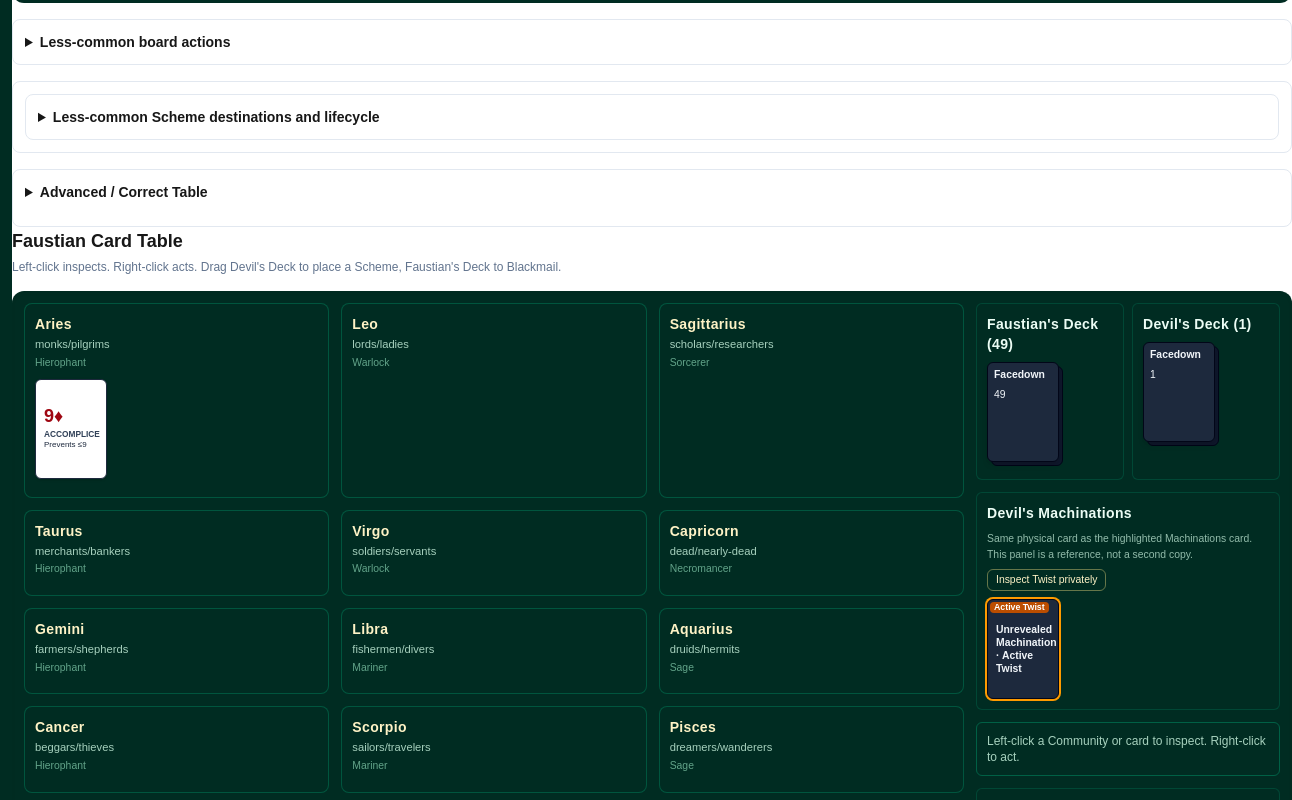
Test: contextual Community actions › surfaces Place Scheme prevention when the new Scheme is at or below the Accomplice
(page scrolled)
Right-click the element showing "Aries monks/pilgrims Hierophant 9♦ Accomplice Prevents ≤9" at (177, 400), box top-left (24, 303), bottom-right (329, 498)
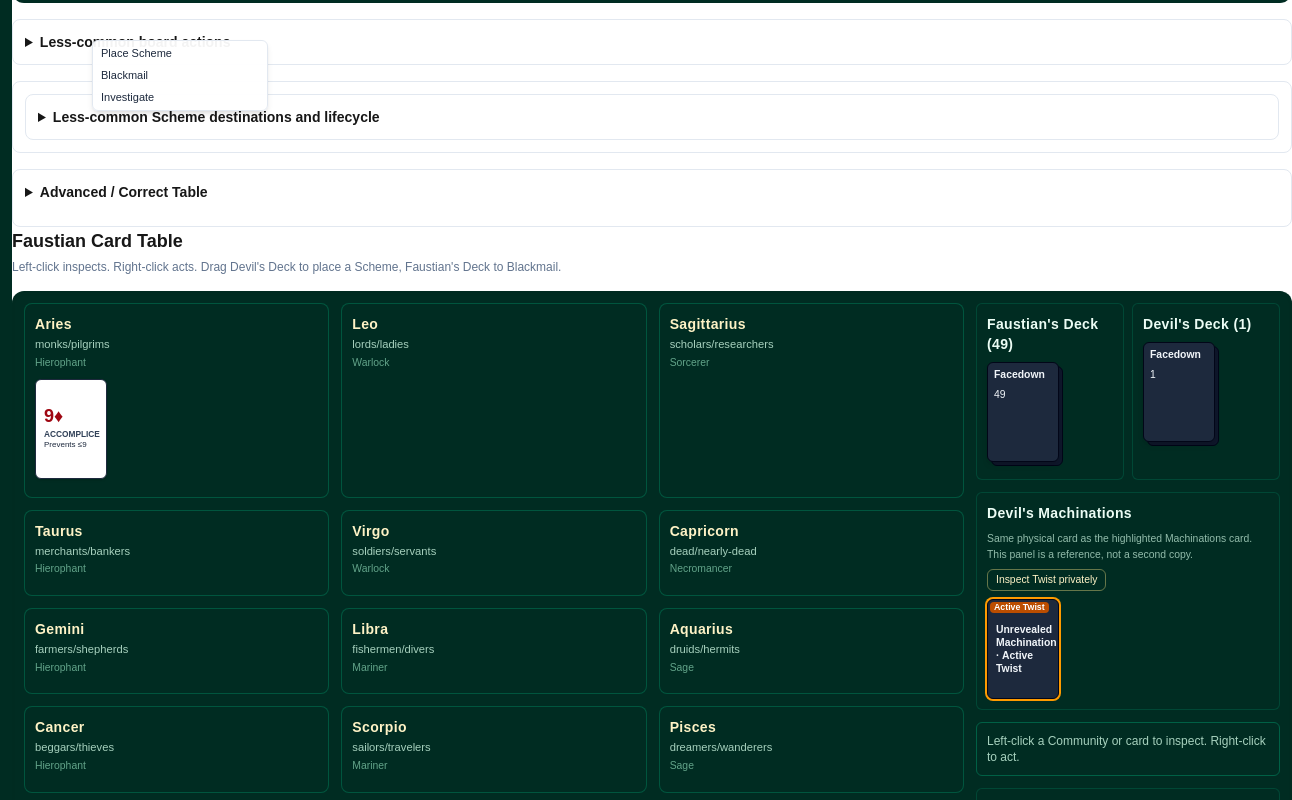
Click the menu item "Place Scheme" at (180, 54), box top-left (93, 43), bottom-right (267, 65)
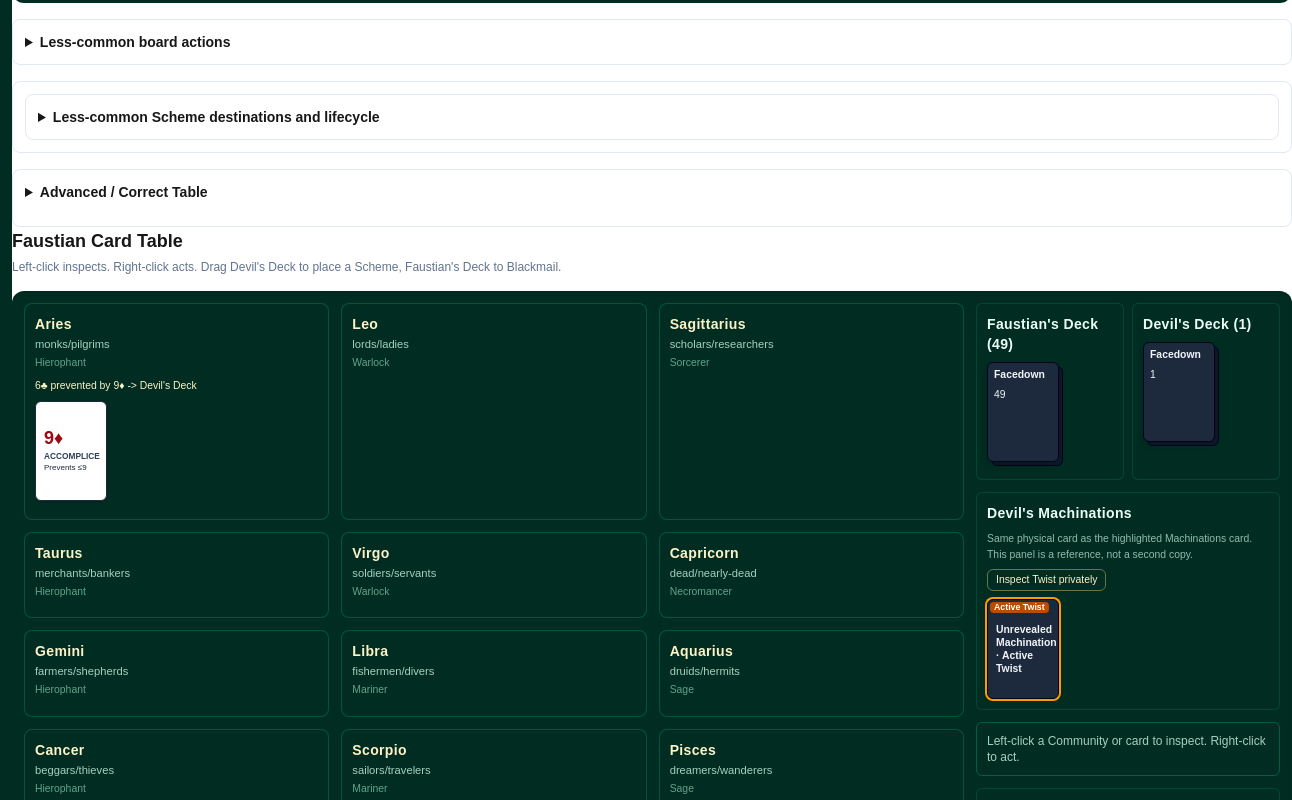
expect the text "6♣ prevented by 9♦ -> Devil's Deck" is shown: met, box top-left (35, 380), bottom-right (197, 391)
